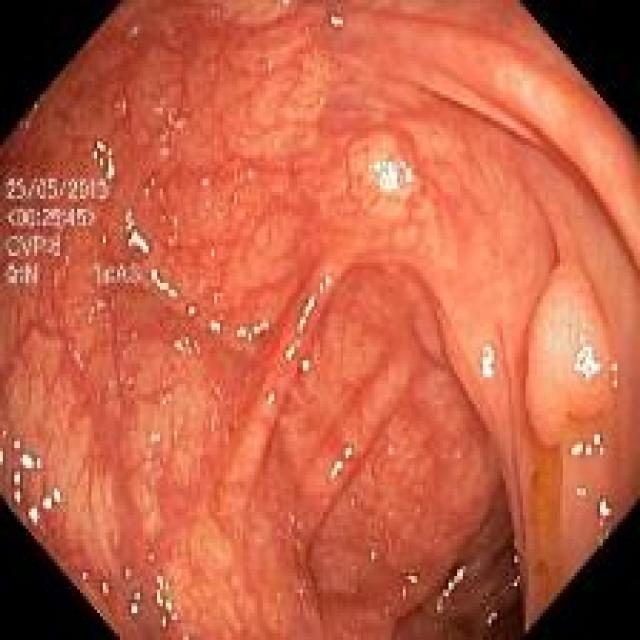Polyps: (528, 264, 618, 447)
